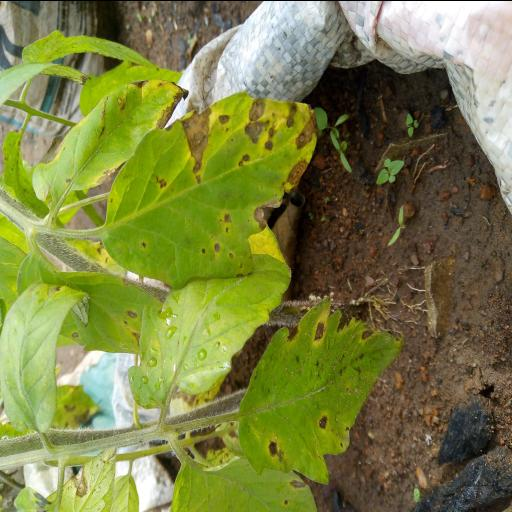disease_tomato: (101, 88, 321, 292), (234, 299, 402, 485)
